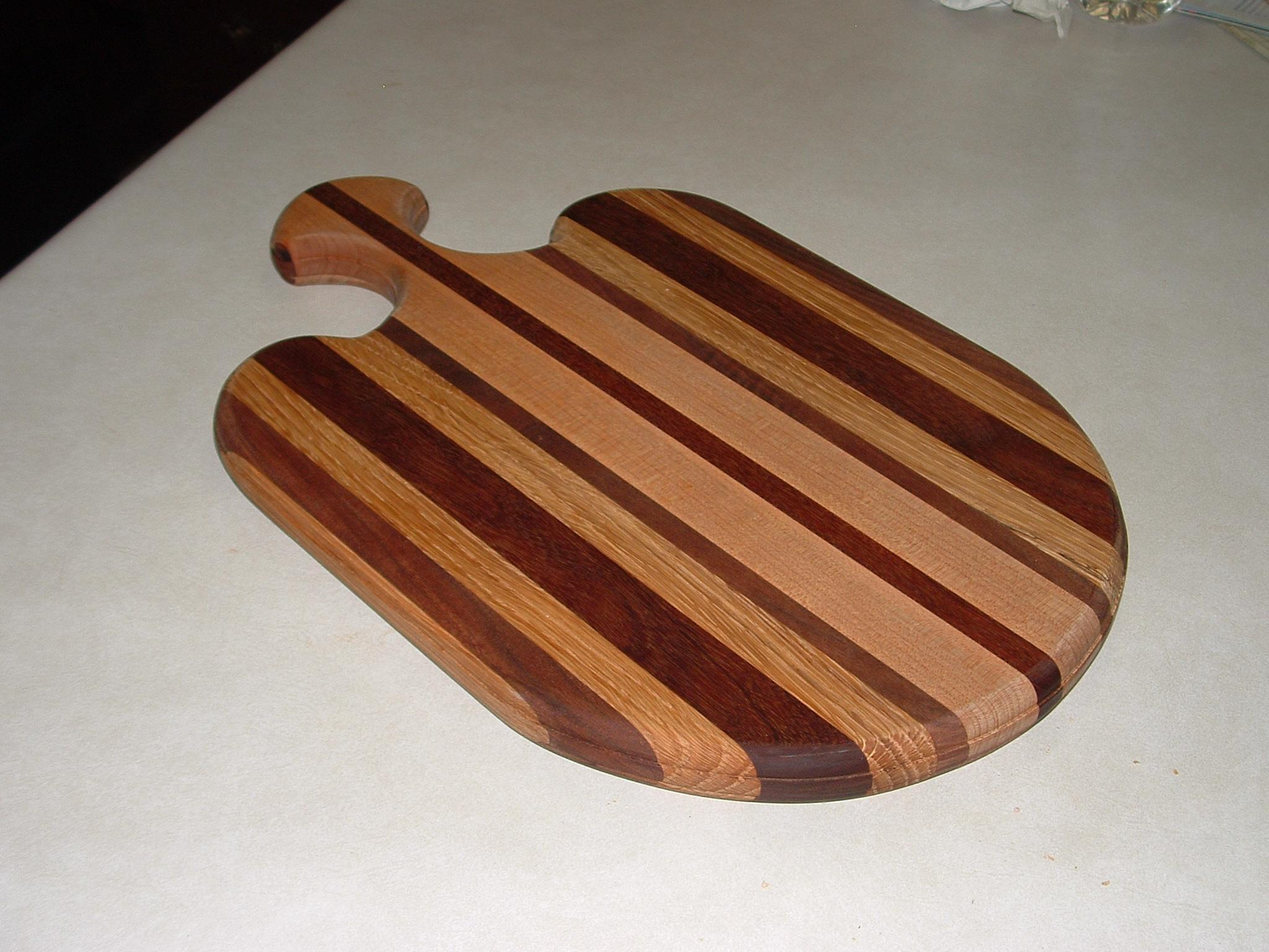gloved_hand: (193, 159, 1140, 806)
